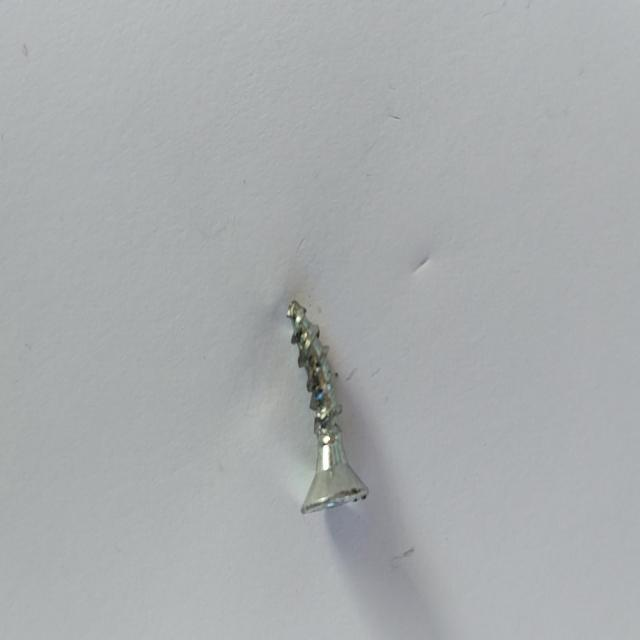Screw: (287, 299, 369, 513)
